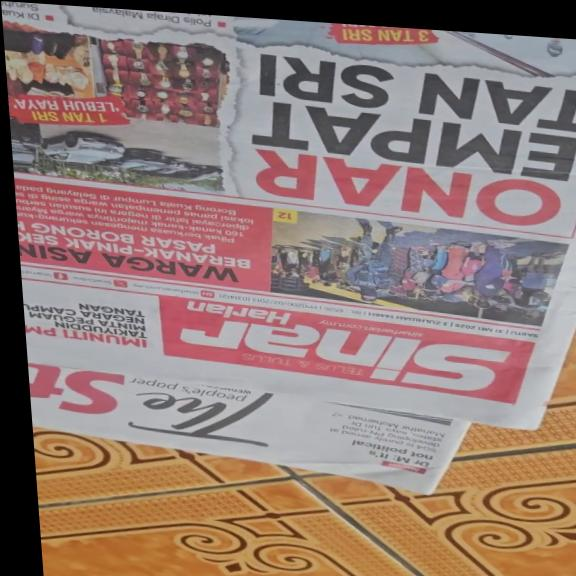Kertas: (1, 1, 576, 489)
